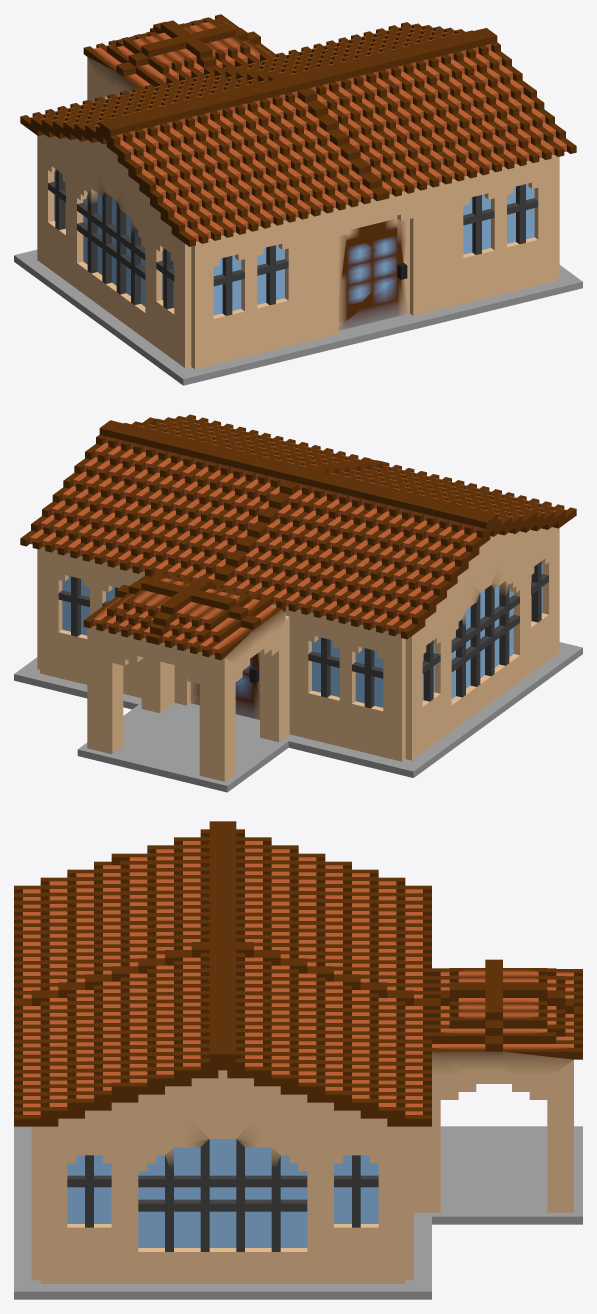
Rendered from obj_house5.fbx.
3 views of the same model, one above another, from view 1: azimuth 30°, elevation 25°; view 2: azimuth 150°, elevation 25°; view 3: azimuth 270°, elevation 25° (orthographic). The views are drawn at different scales.
Visible parts, largest first — view 1: obj_house5; view 2: obj_house5; view 3: obj_house5.
Part boxes in pixels (left/top/right/bottom): obj_house5: left=14, top=14, right=582, bottom=385; obj_house5: left=14, top=414, right=582, bottom=792; obj_house5: left=14, top=821, right=582, bottom=1299.
Bounding box in the file's own units: 6.4 × 6.4 × 3.
Materials: 1 (1 with a texture image).
